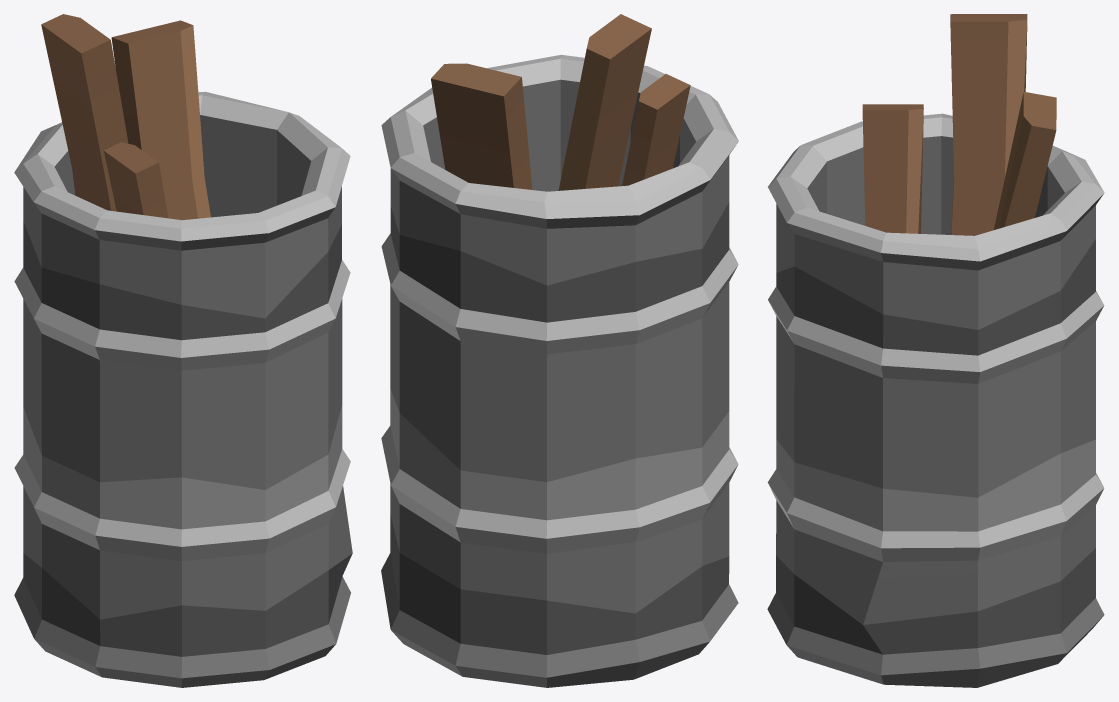
Rendered from bonfire_cnt_2.fbx.
3 views of the same model, side by side, from view 1: azimuth 30°, elevation 25°; view 2: azimuth 150°, elevation 25°; view 3: azimuth 270°, elevation 25° (orthographic). The views are drawn at different scales.
Visible parts, largest first — view 1: bonfire_cnt_2; view 2: bonfire_cnt_2; view 3: bonfire_cnt_2.
Boxes of the visible parts, bbox=[...] form: bonfire_cnt_2: bbox=[14, 14, 352, 687]; bonfire_cnt_2: bbox=[381, 14, 738, 687]; bonfire_cnt_2: bbox=[767, 14, 1104, 687].
Size of the model in its own units: 50.56 by 97.76 by 52.26.
Materials: 1 (1 with a texture image).
